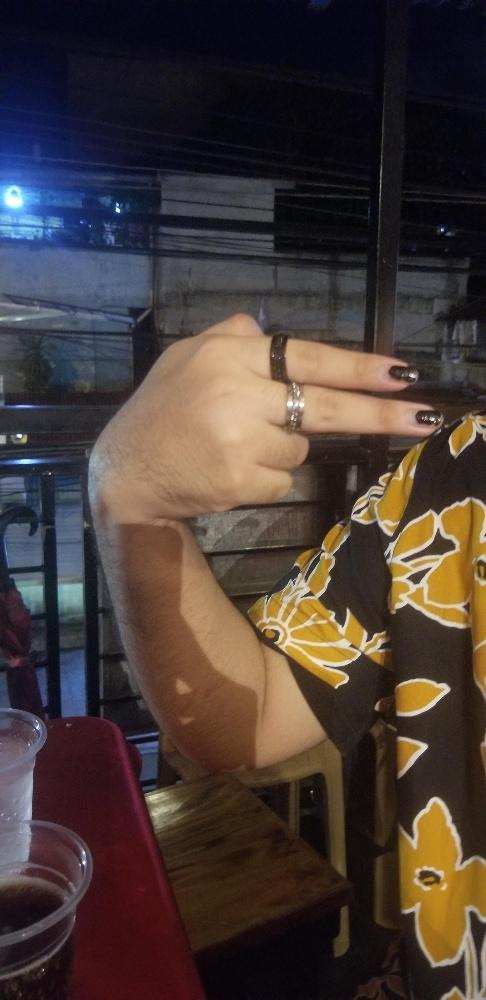h: (86, 310, 441, 515)
